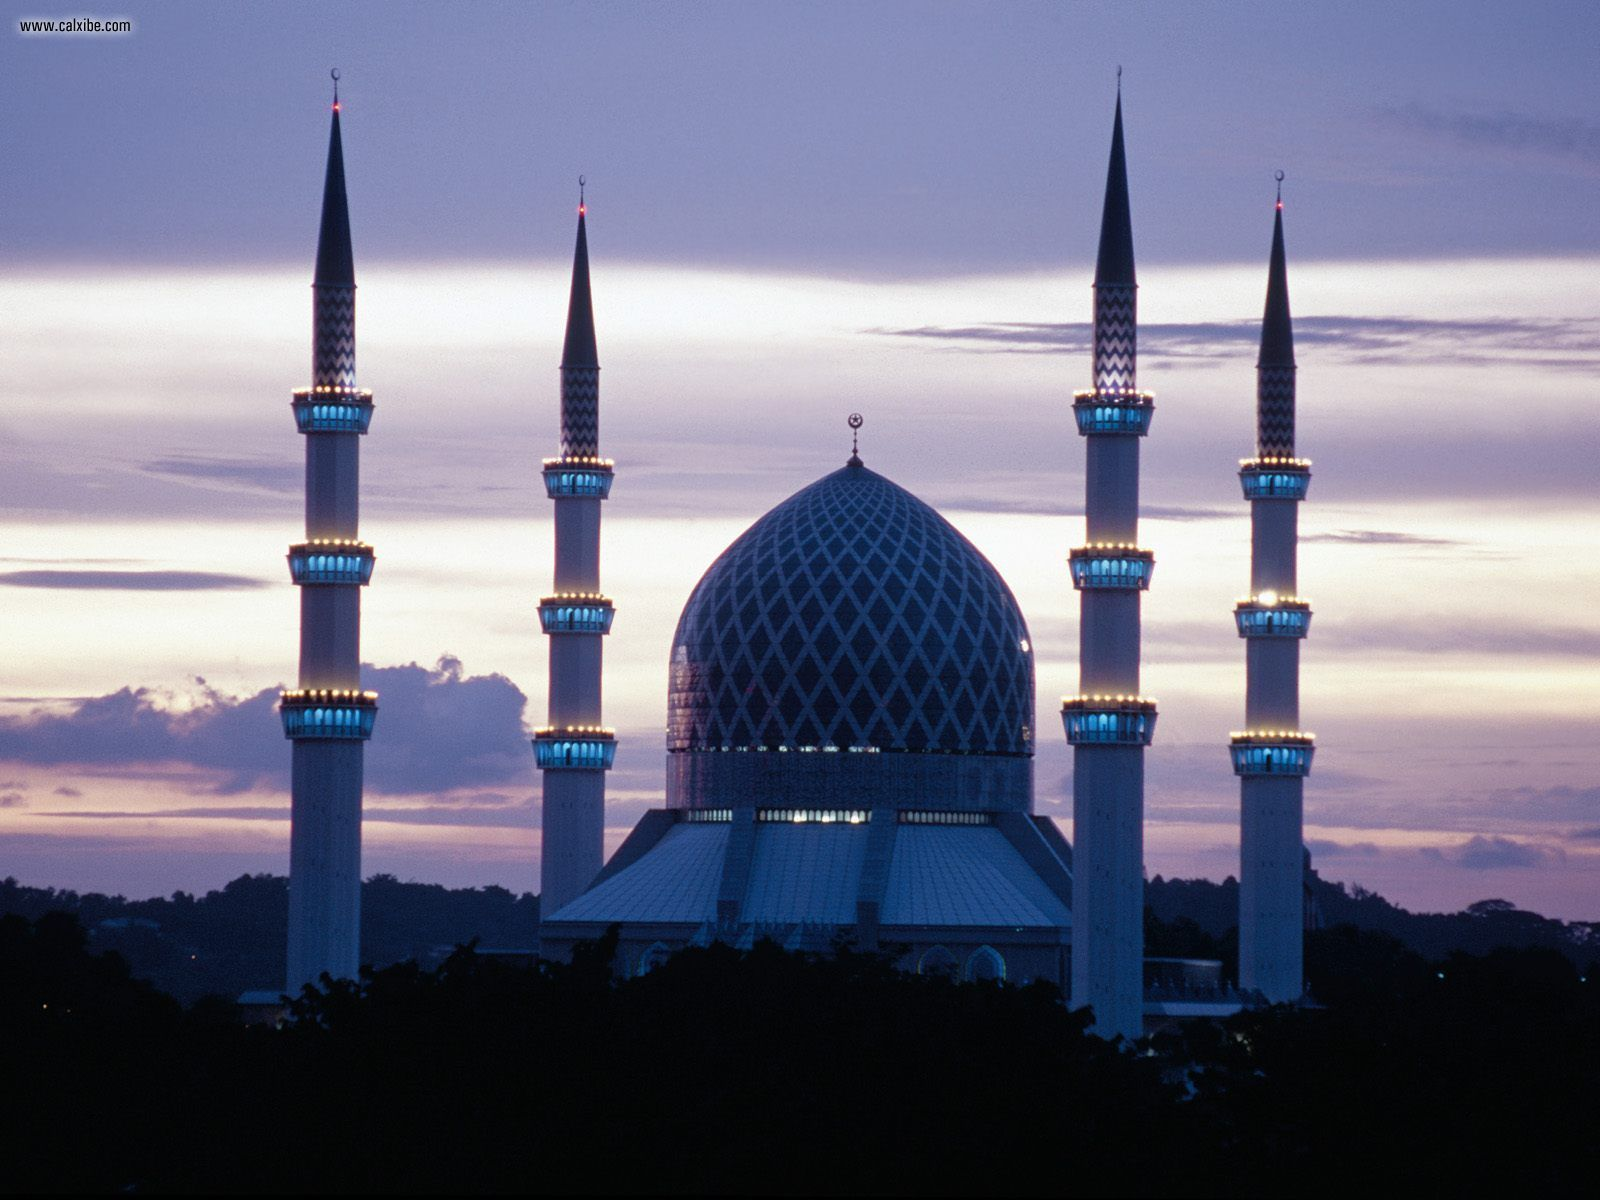Mosque: (276, 34, 1329, 995)
